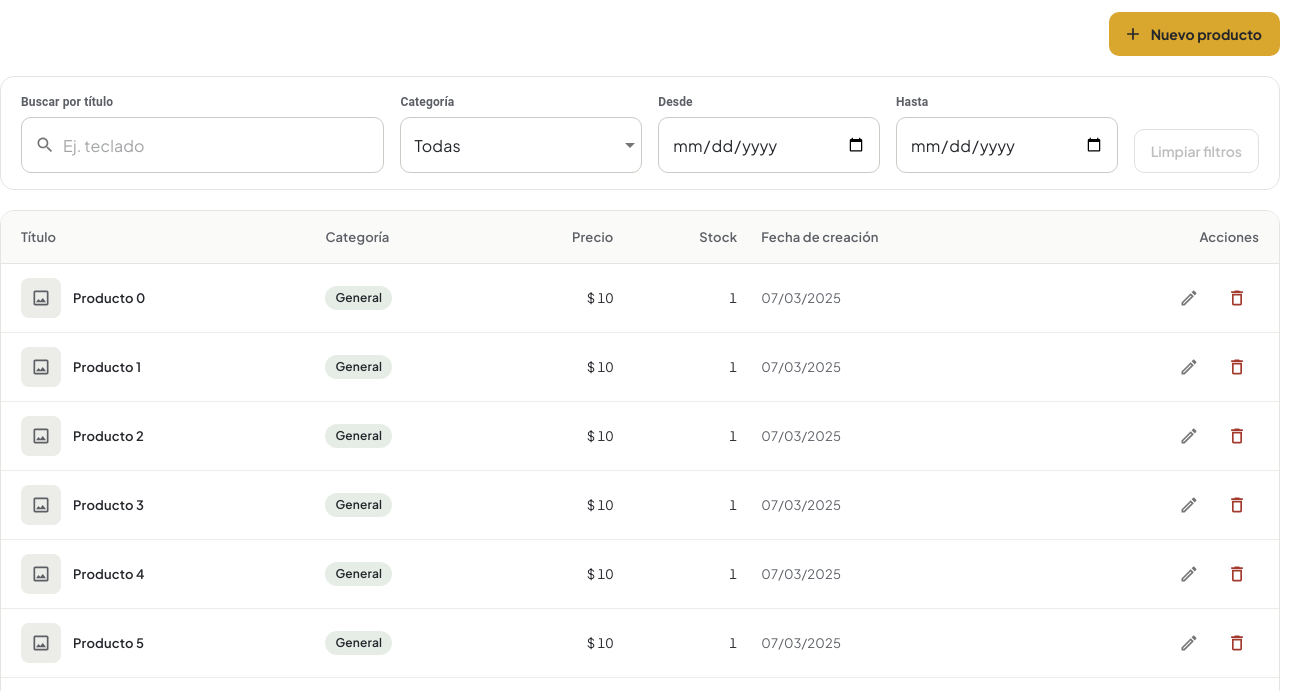
Test case: InventoryPage › says nothing matches when filters are set
Type "2025-01-01" into the date field labelled "Desde". click: (769, 145)
box: left=658, top=117, right=880, bottom=173
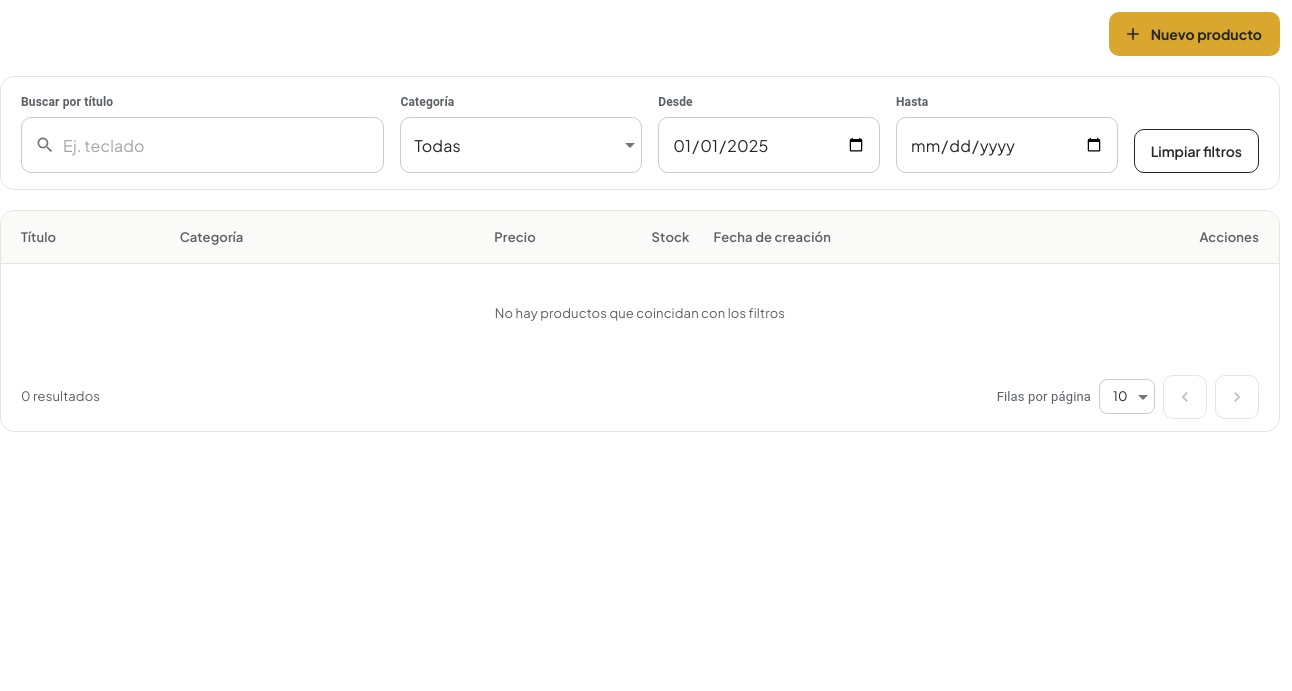
Now the text "No hay productos que coincidan con los filtros" is shown, box left=1, top=264, right=1279, bottom=363
